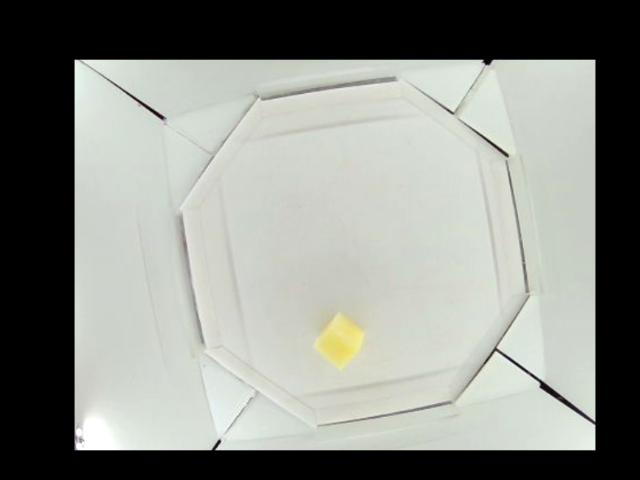Potato: (316, 312, 365, 364)
